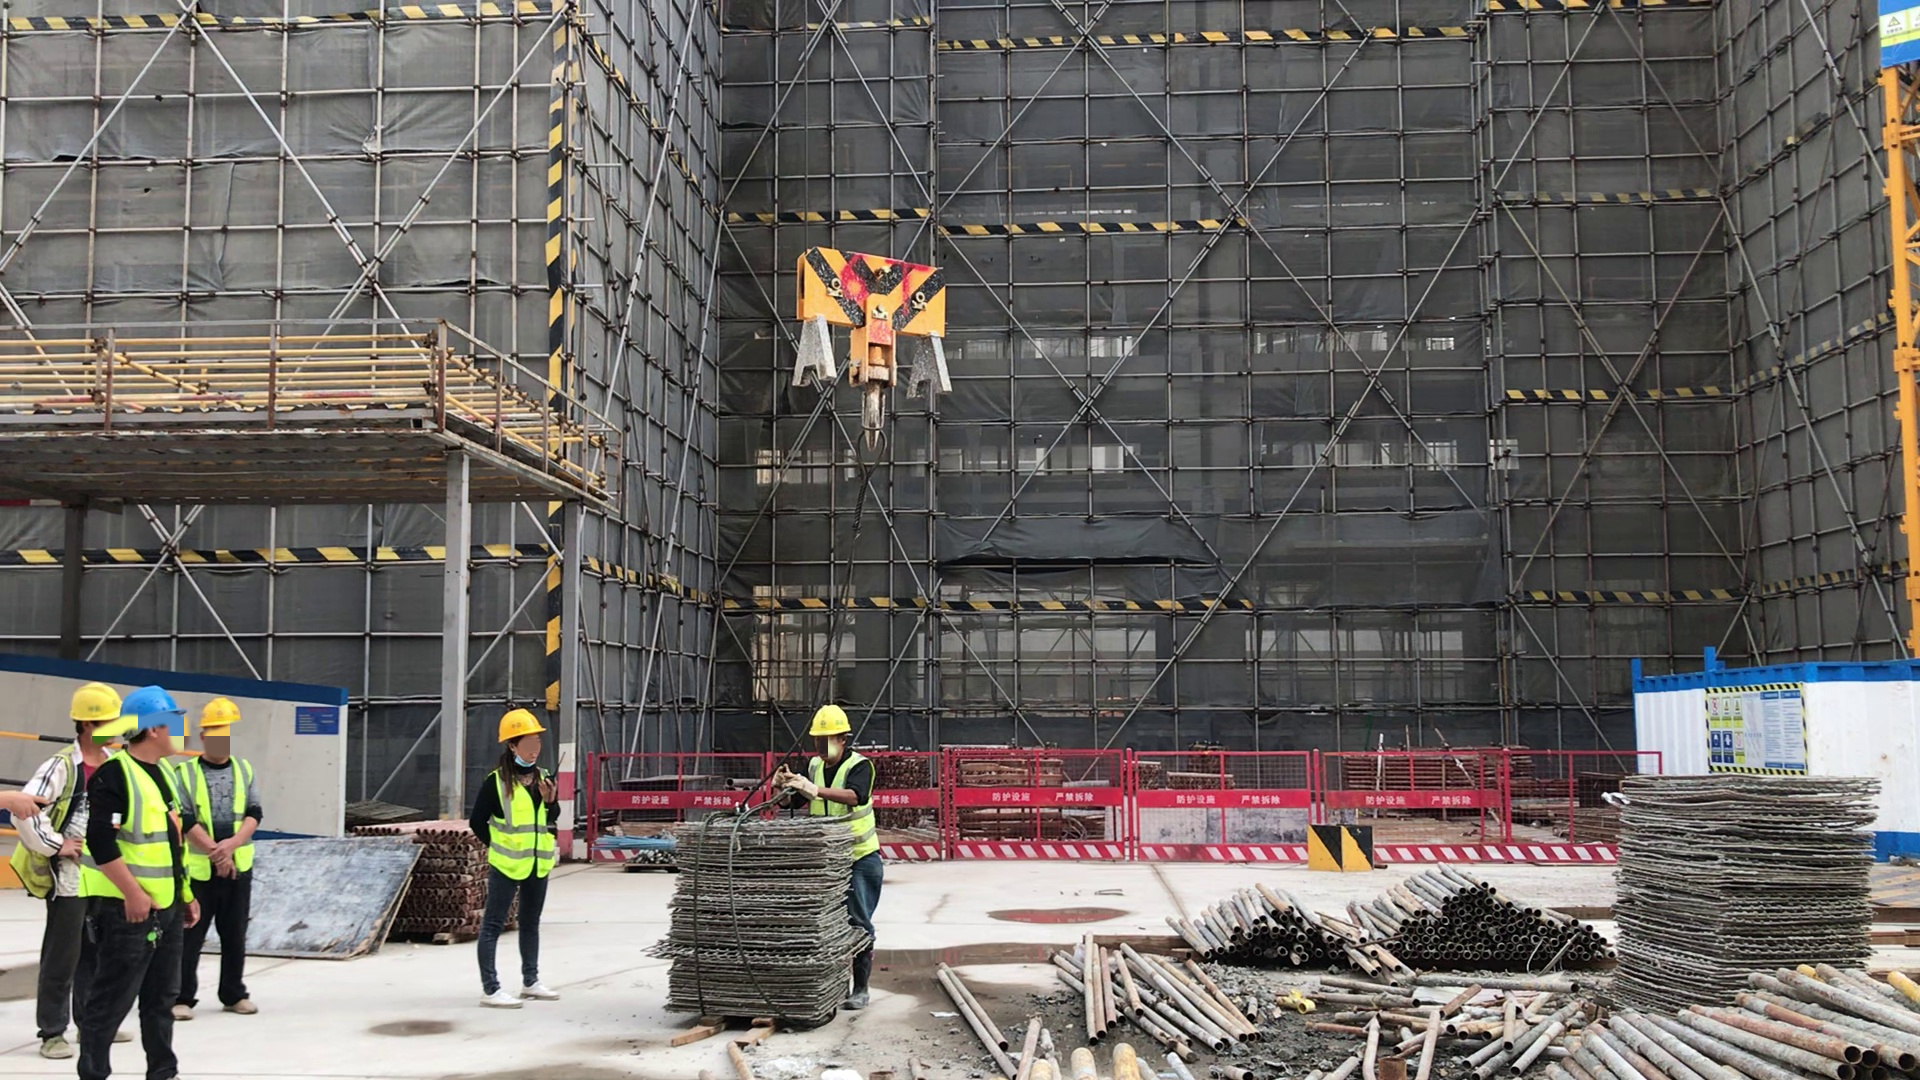fence: (589, 751, 1662, 864)
helmet: (116, 683, 178, 727), (67, 680, 120, 719), (496, 704, 546, 742), (198, 697, 242, 731), (806, 706, 850, 735)
hook: (790, 241, 952, 458)
person: (78, 686, 201, 1080), (11, 681, 133, 1061), (773, 705, 880, 1012), (171, 698, 261, 1019), (469, 708, 563, 1011)
scaffold: (1616, 773, 1874, 1003), (671, 820, 851, 1023), (412, 822, 490, 939)
vest: (74, 751, 188, 911), (178, 756, 255, 879), (489, 765, 561, 881), (804, 757, 877, 865)
